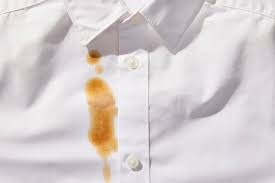coffee: (89, 80, 112, 147), (87, 50, 99, 64)
